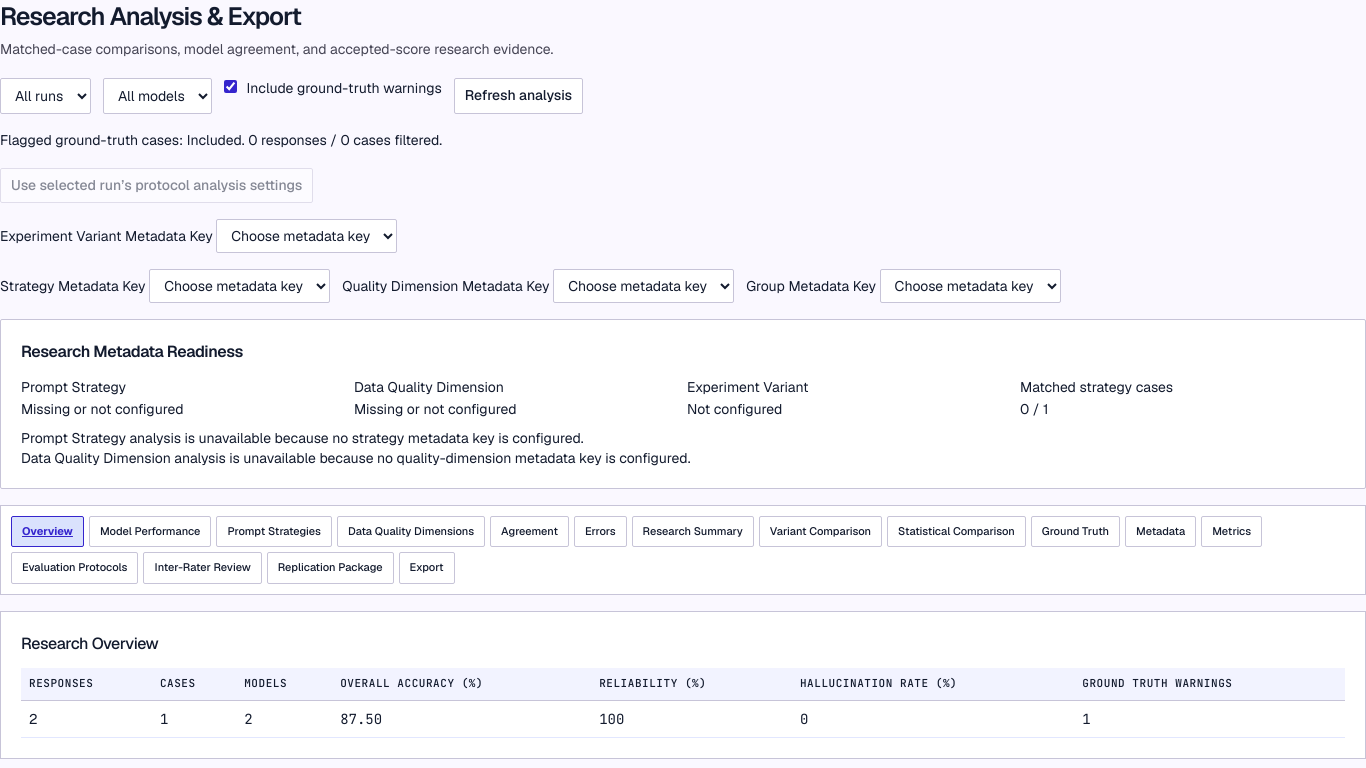
Test: overview dynamic models errors and optional metadata states
expect the text "87.50" is shown: met, box [332,700,591,738]
Click the button "Model Performance" at point(150, 532), box [89,516,211,547]
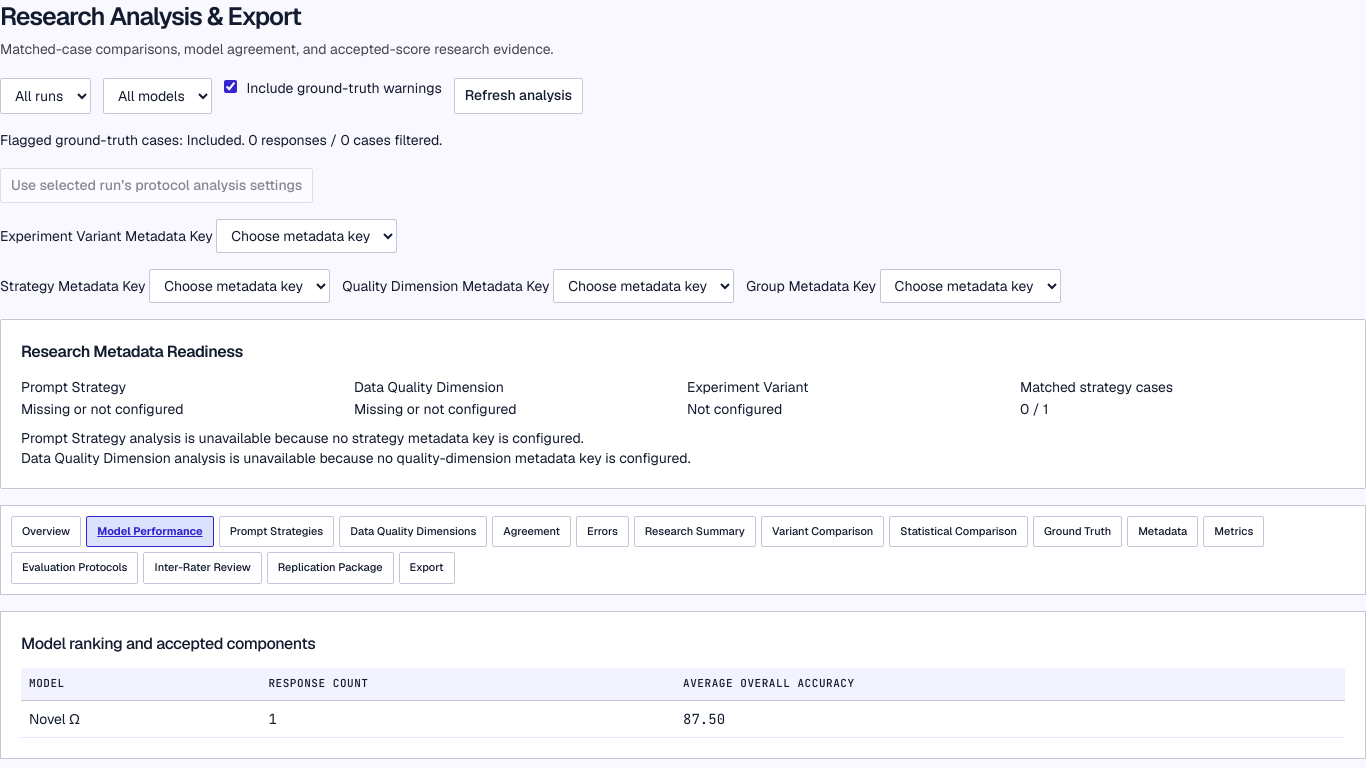
expect the text "Novel Ω" is shown: met, box [21,700,260,738]
Click the button "Errors" at point(602, 532), box [576,516,629,547]
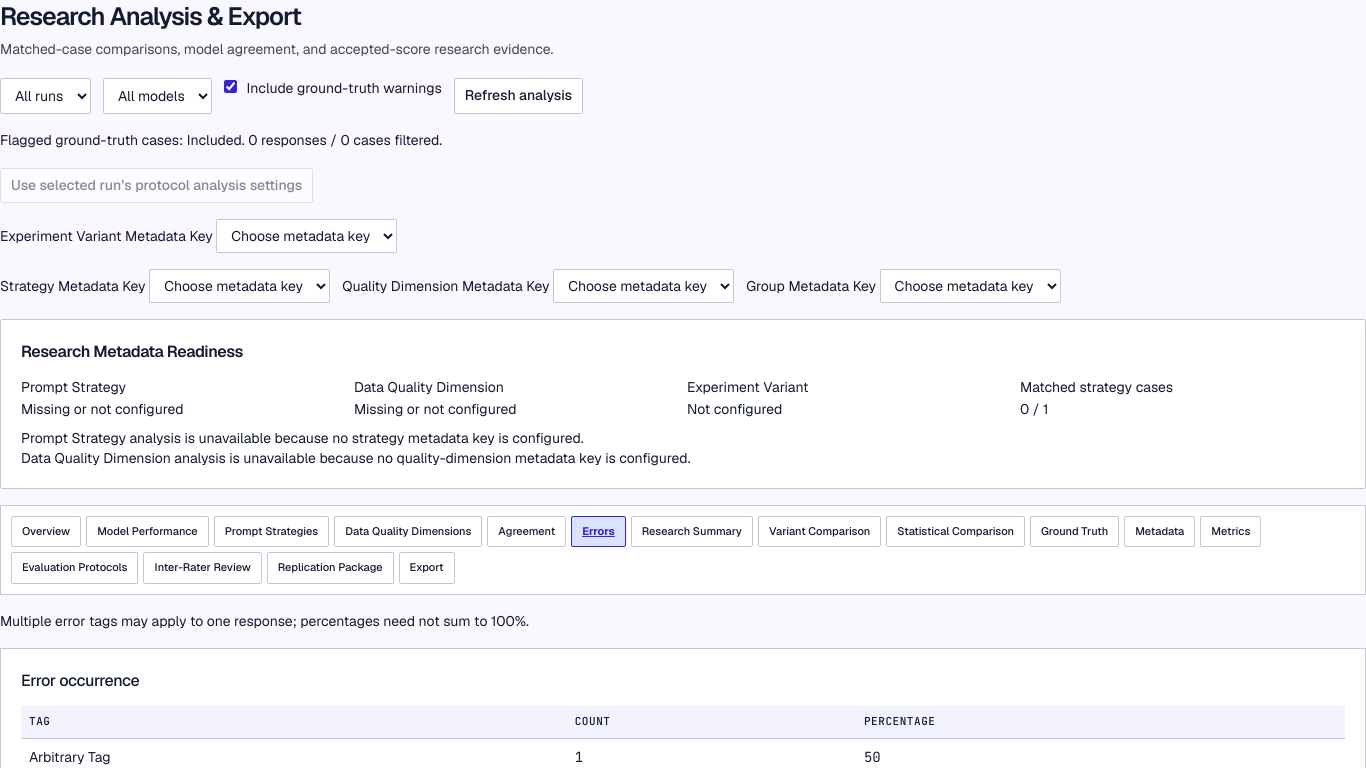
Click the button "Data Quality Dimensions" at point(408, 532), box [334,516,482,547]
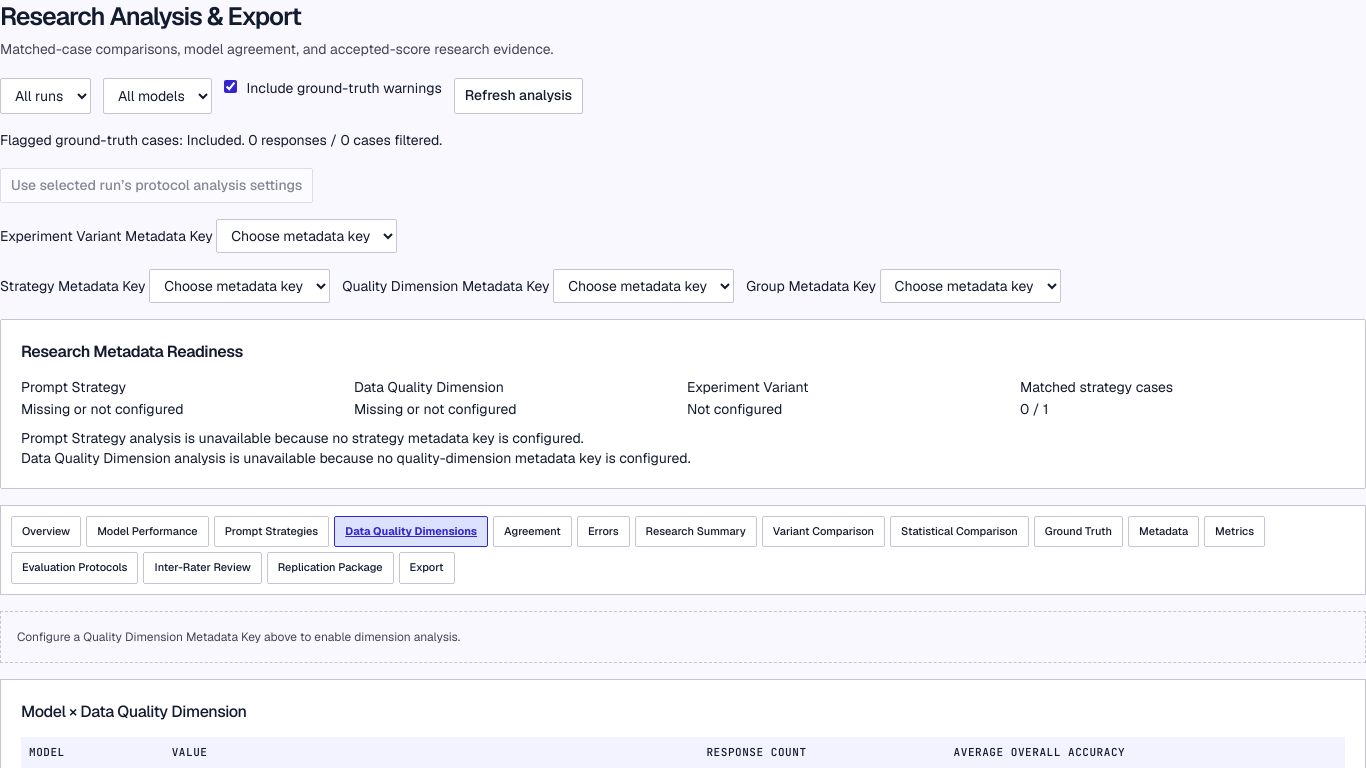
expect the text "no quality-dimension metadata key is configured" is shown: met, box [21,449,690,467]
Select "Custom Dimension" in the dropdown labelled "Quality Dimension Metadata Key" at point(644, 286), box [553,269,734,303]
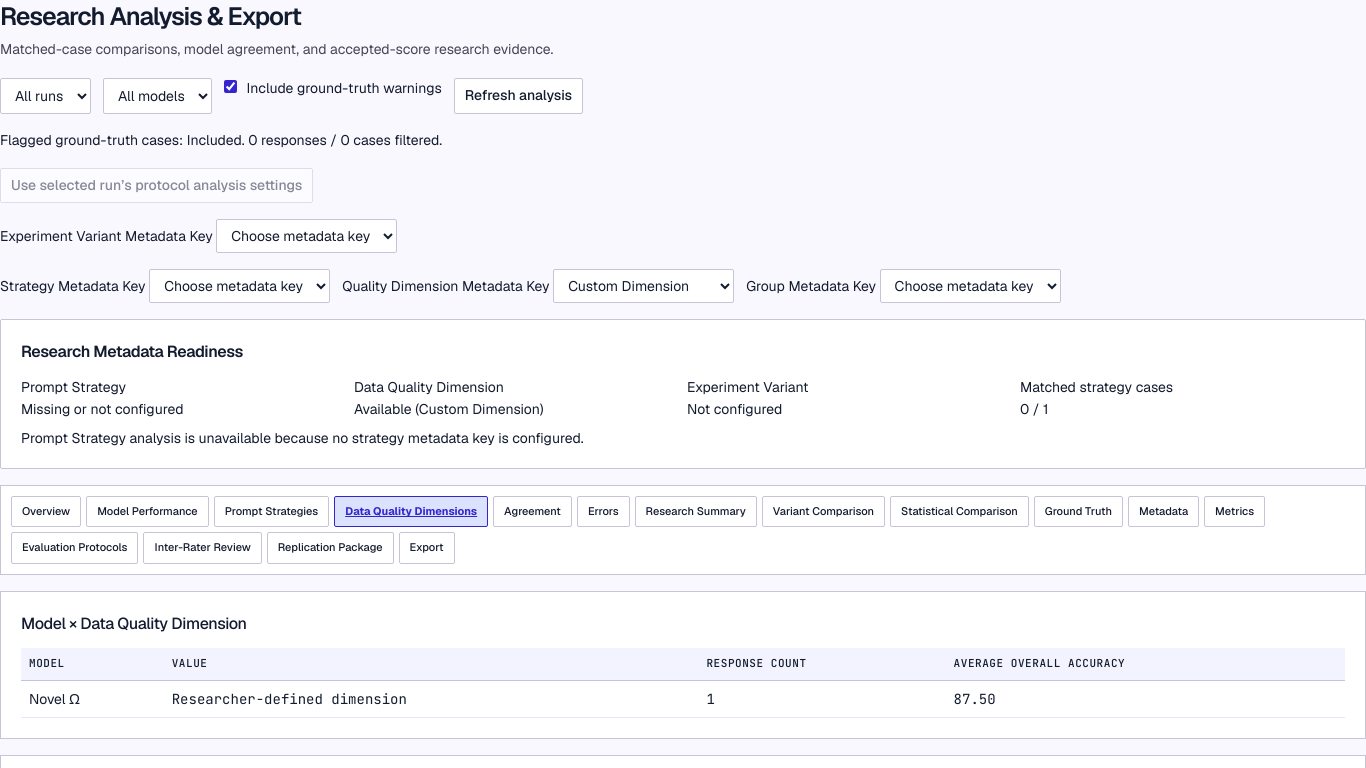
expect the text "Available (Custom Dimension)" is shown: met, box [354,400,544,418]
